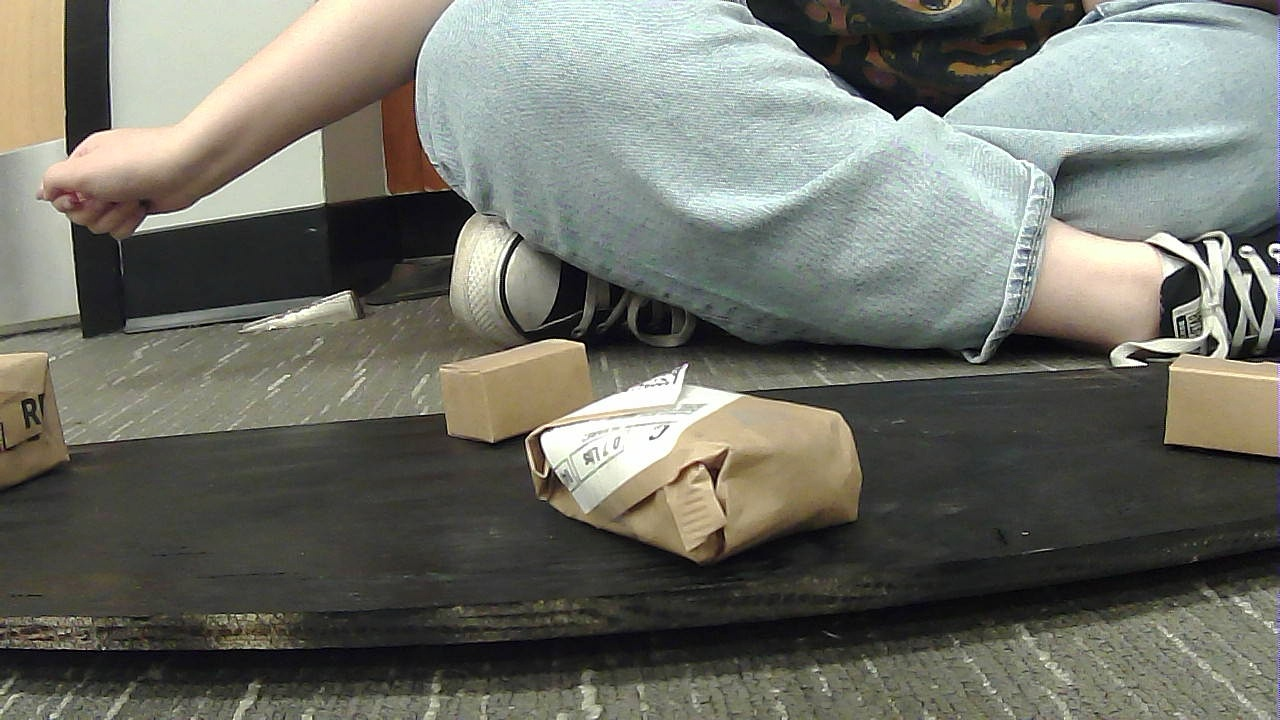package: (518, 380, 897, 569), (412, 324, 612, 435), (1146, 341, 1277, 465), (1, 348, 88, 484)
